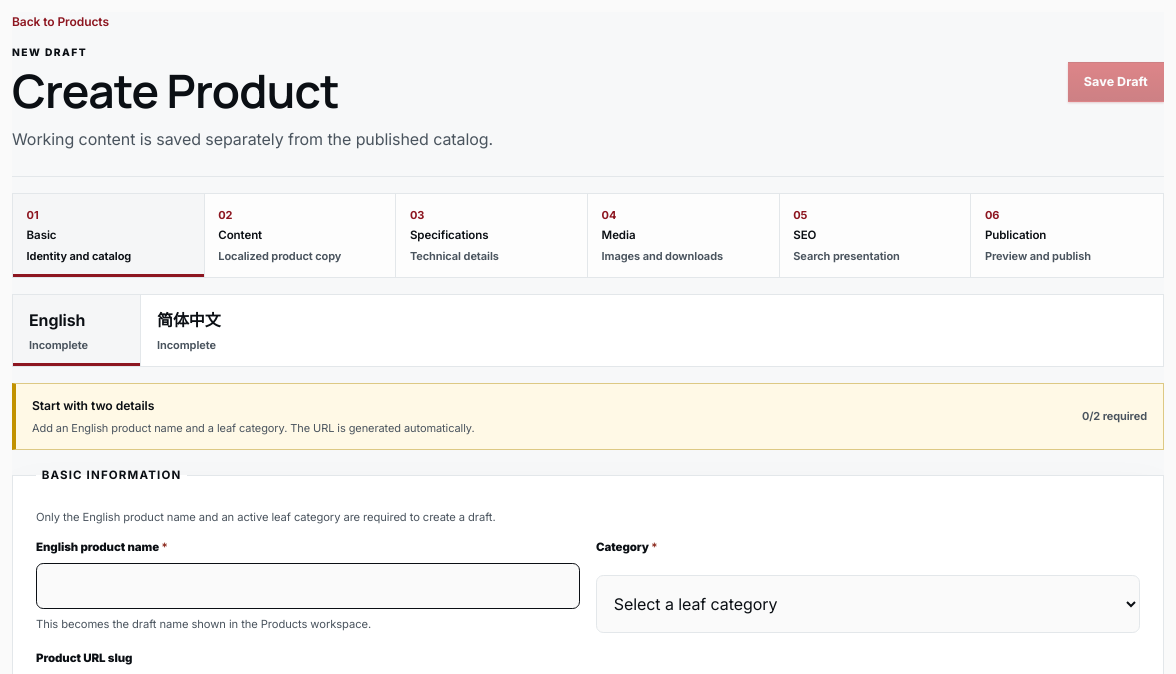
automatic product slug › maps API body validation paths to the visible field and section
This screenshot has width=1176, height=674.
Type "Blocked product" into the field labelled "English product name" at (308, 586), box left=36, top=563, right=580, bottom=609
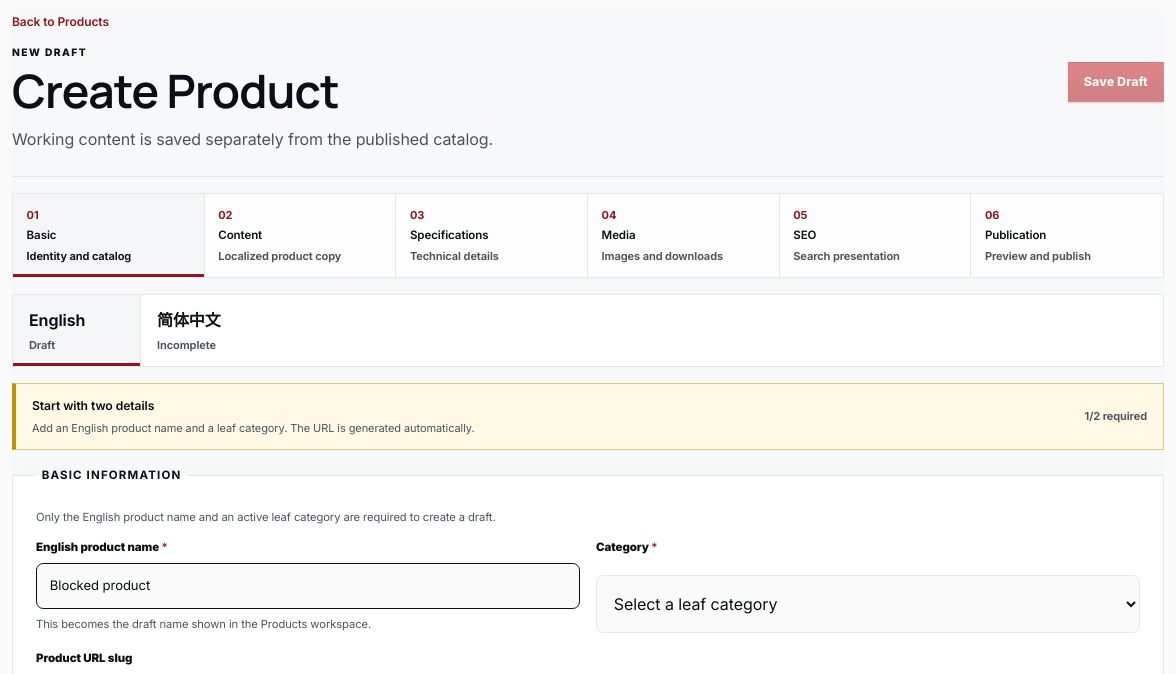
Select "Solar modules" in the dropdown labelled "Category" at (868, 604), box left=596, top=575, right=1140, bottom=633
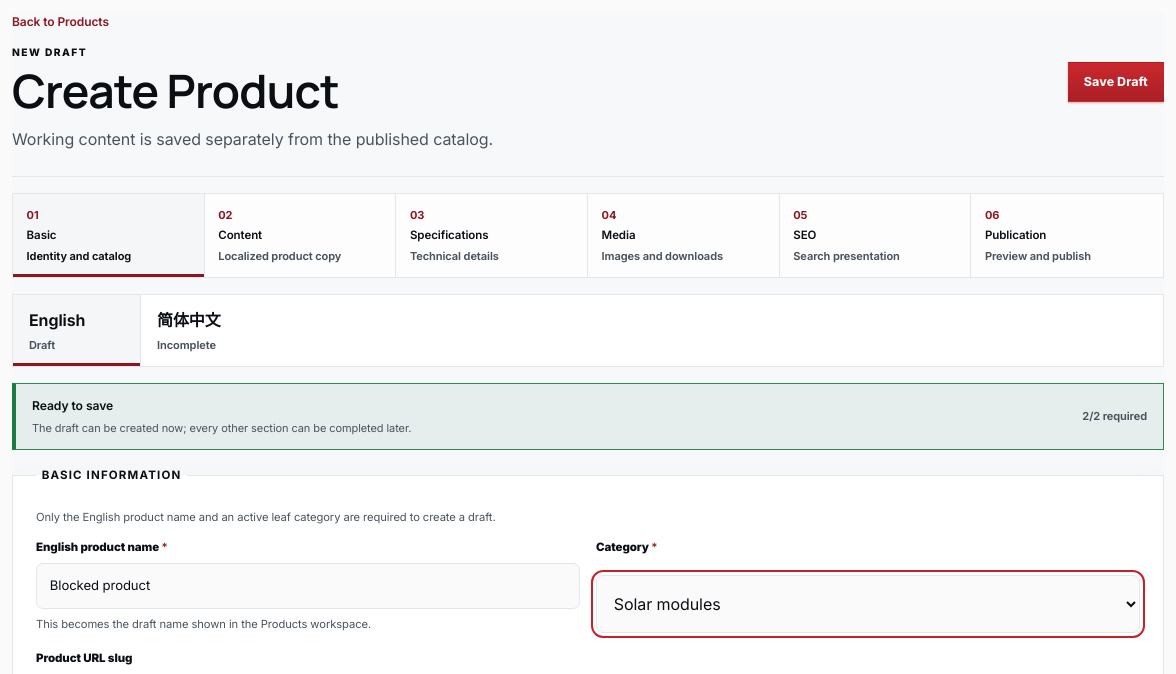
Click the button "Save Draft" at (1116, 82), box left=1068, top=62, right=1164, bottom=102
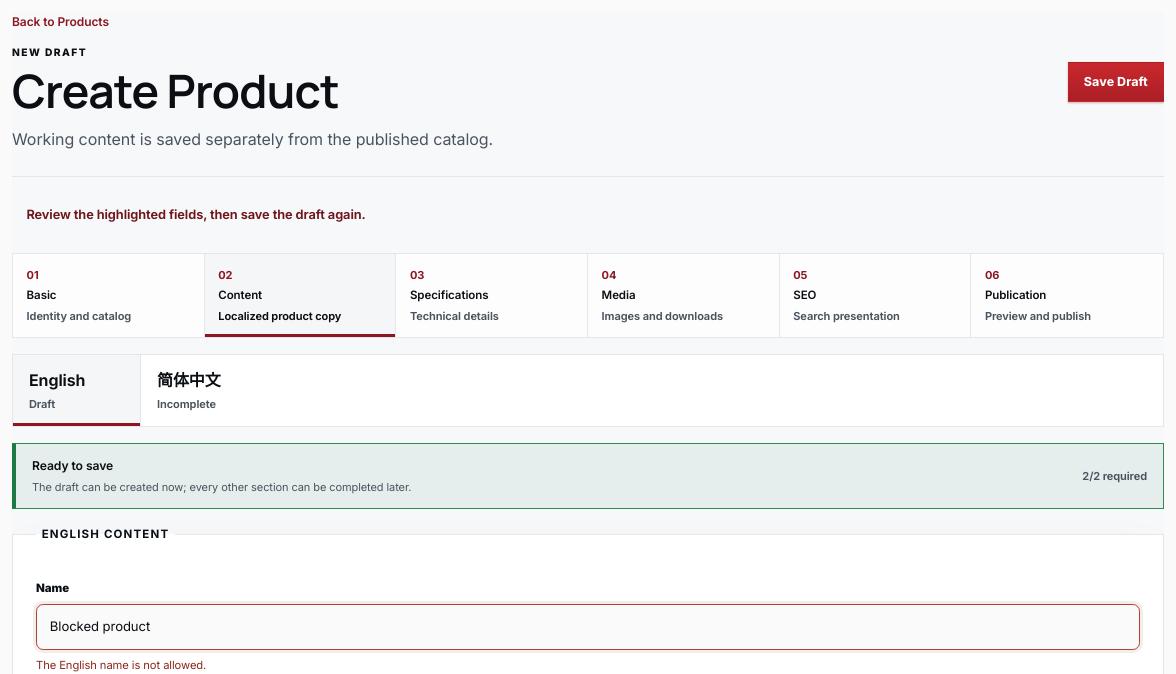
Now the text "The English name is not allowed." is shown, box left=36, top=658, right=206, bottom=672
